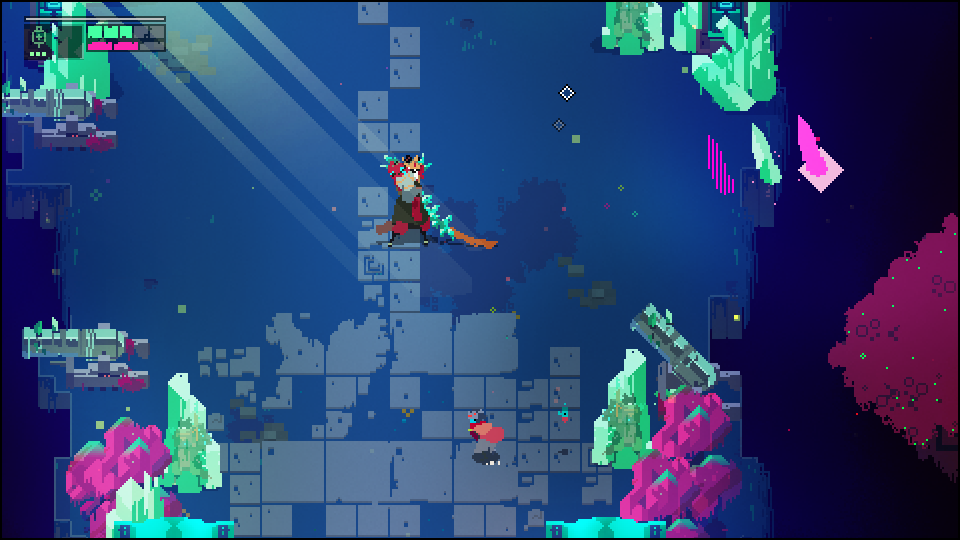hanged_crys: (796, 111, 829, 177), (748, 122, 783, 184), (704, 131, 735, 191)
hanged_man: (377, 153, 459, 246)
player: (465, 410, 503, 456)
